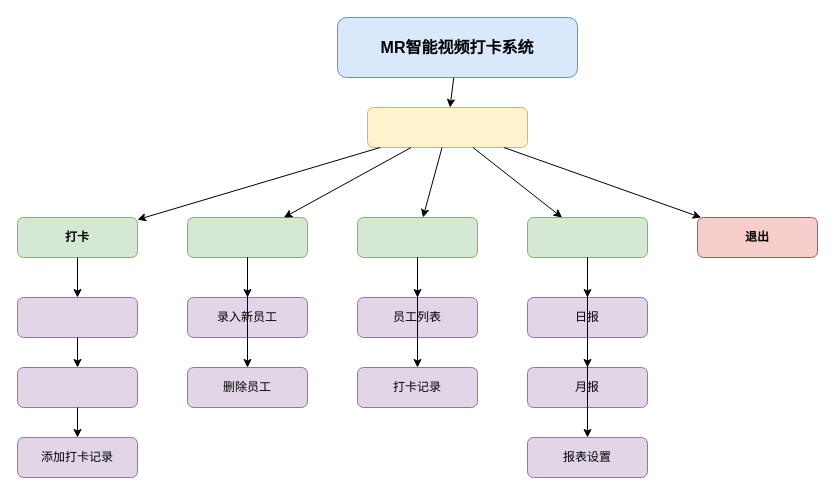
The diagram is 835 pixels wide and 495 high, and some of its shapes have lost their labels. The box of each missing label's shape, as (x1, y1, x2, y2) in pixels:
主菜单: (366, 106, 528, 148)
人脸检测: (16, 296, 138, 338)
人脸识别: (16, 366, 138, 408)
员工管理: (186, 216, 308, 258)
查看记录: (356, 216, 478, 258)
考勤报表: (526, 216, 648, 258)
